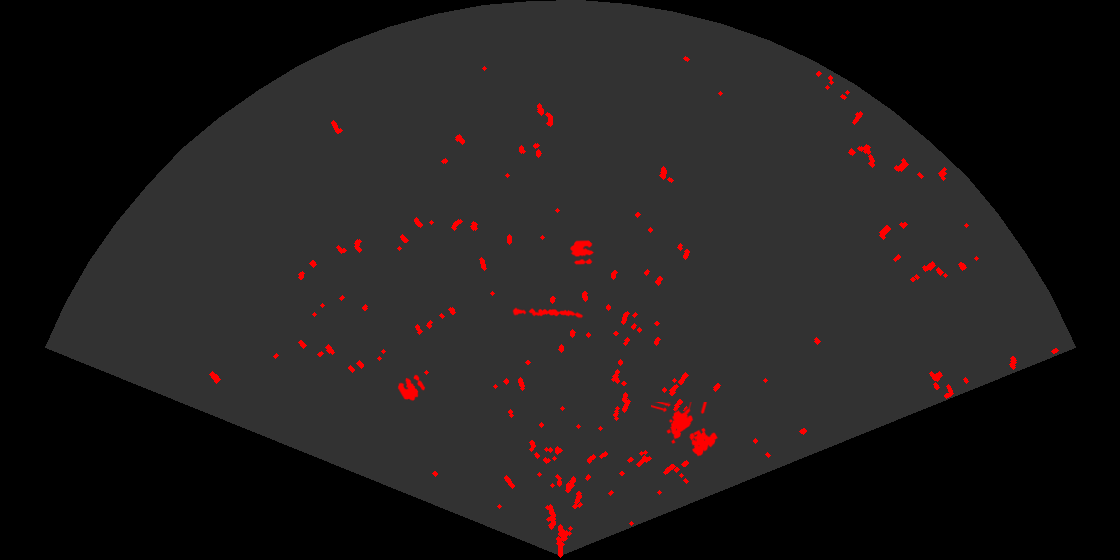ball: (396, 373, 427, 403), (569, 239, 596, 266)
cage: (651, 402, 720, 458)
chain: (512, 306, 584, 320)
